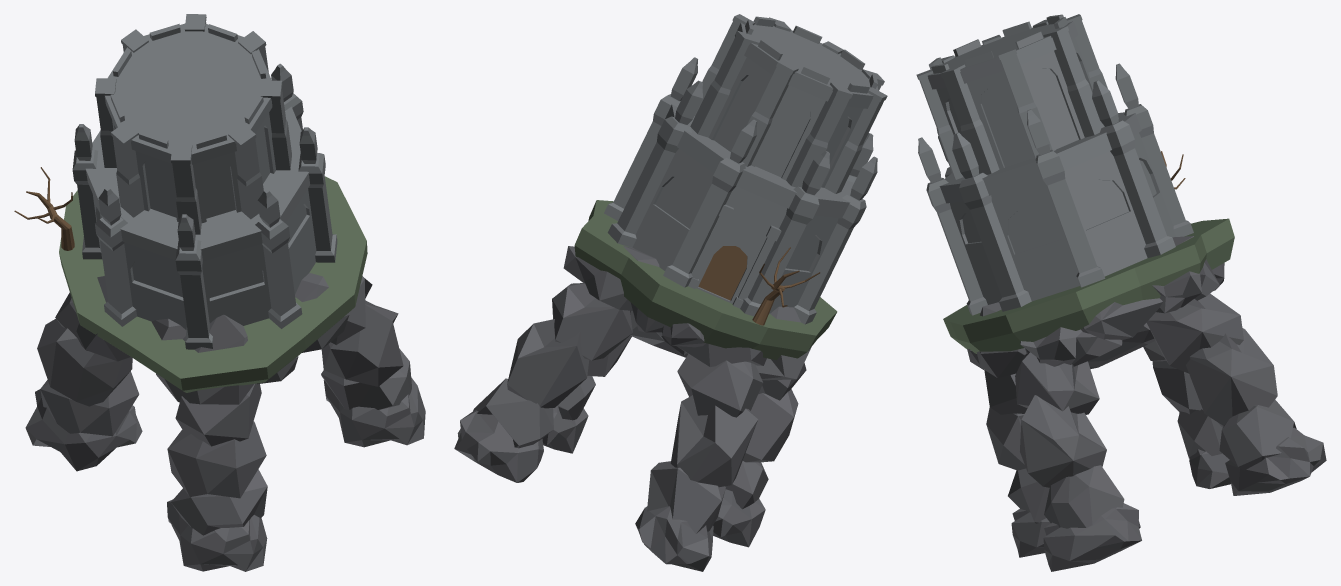
File: mausoleum.glb
3 views of the same model, side by side, from view 1: azimuth 30°, elevation 25°; view 2: azimuth 150°, elevation 25°; view 3: azimuth 270°, elevation 25° (orthographic). The views are drawn at different scales.
Parts seen in each view (by area): view 1: Mausoleum Weeping.001; view 2: Mausoleum Weeping.001; view 3: Mausoleum Weeping.001.
Part boxes in pixels (x1,y1,x2,y2): Mausoleum Weeping.001: (14,14,425,571); Mausoleum Weeping.001: (454,14,887,571); Mausoleum Weeping.001: (916,14,1326,571).
Size of the model in its own units: 0.45 by 0.6654 by 0.4794.
